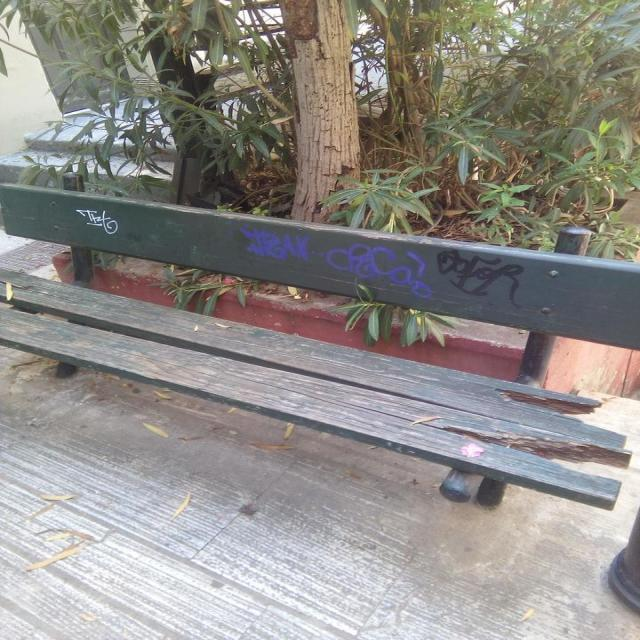nonspitting: (234, 222, 432, 300), (434, 247, 526, 298), (79, 207, 121, 236)
